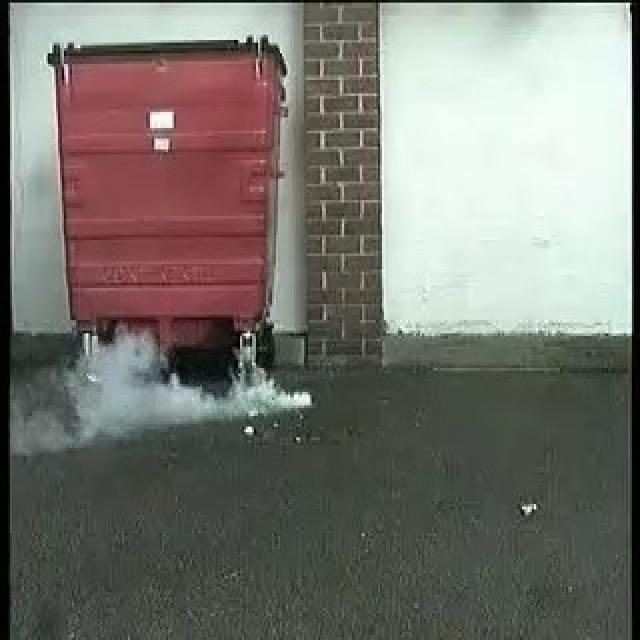smoke: (80, 334, 317, 428)
